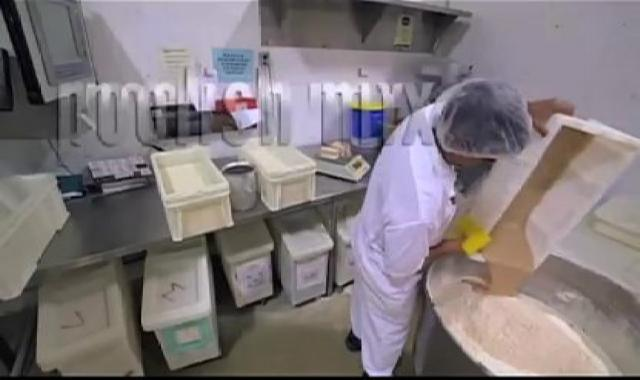hairnet: (425, 77, 549, 158)
